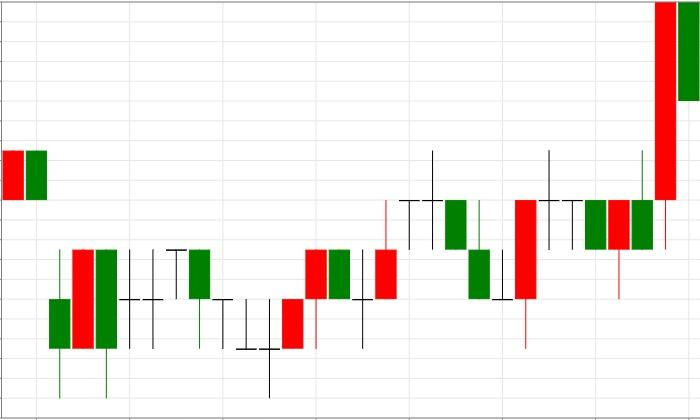morning_star_rise: (399, 151, 536, 349)
